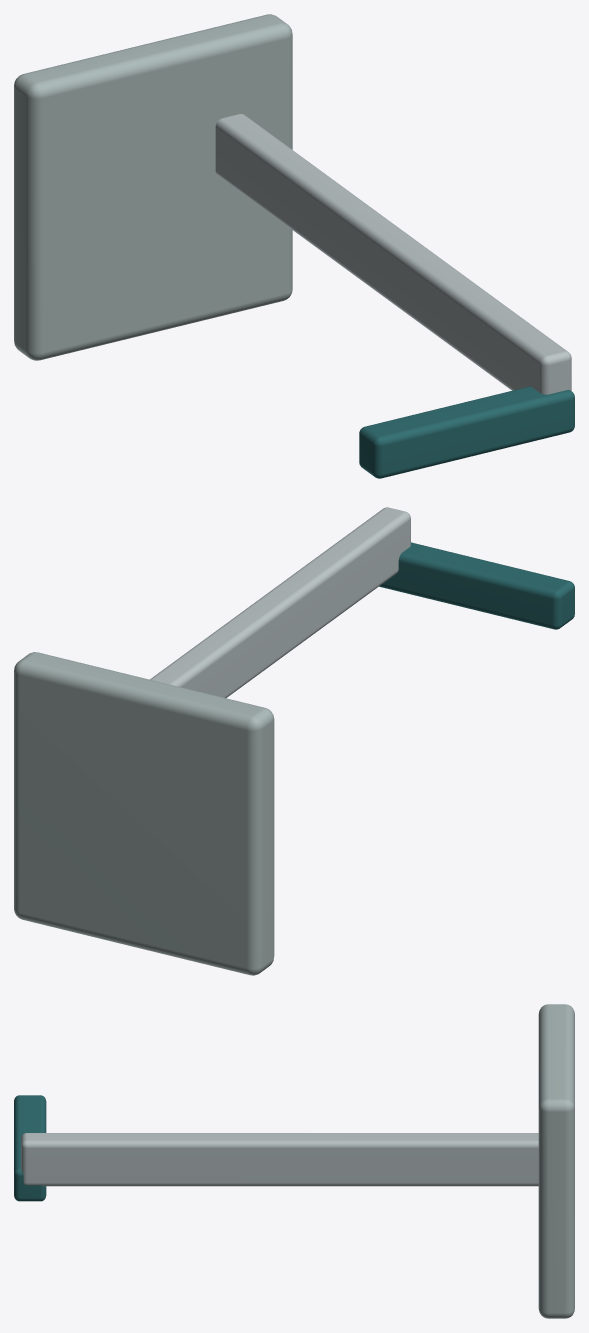
The model's file is pipette_holder.glb.
3 renders of one model, top to bottom at view 1: azimuth 30°, elevation 25°; view 2: azimuth 150°, elevation 25°; view 3: azimuth 270°, elevation 25°, orthographic. The views are drawn at different scales.
Visible parts, largest first — view 1: Pipette stand foot, Pipette stand upright, Pipette support; view 2: Pipette stand foot, Pipette stand upright, Pipette support; view 3: Pipette stand upright, Pipette stand foot, Pipette support.
Boxes of the visible parts, left/top/right/bottom form: Pipette stand foot: left=14, top=14, right=292, bottom=360; Pipette stand upright: left=215, top=114, right=571, bottom=394; Pipette support: left=359, top=386, right=574, bottom=478; Pipette stand foot: left=14, top=652, right=274, bottom=975; Pipette stand upright: left=150, top=507, right=410, bottom=697; Pipette support: left=379, top=542, right=574, bottom=629; Pipette stand upright: left=21, top=1133, right=538, bottom=1186; Pipette stand foot: left=538, top=1004, right=574, bottom=1318; Pipette support: left=14, top=1095, right=46, bottom=1201.
Bounding box in the file's own units: 0.12 × 0.12 × 0.2785.
